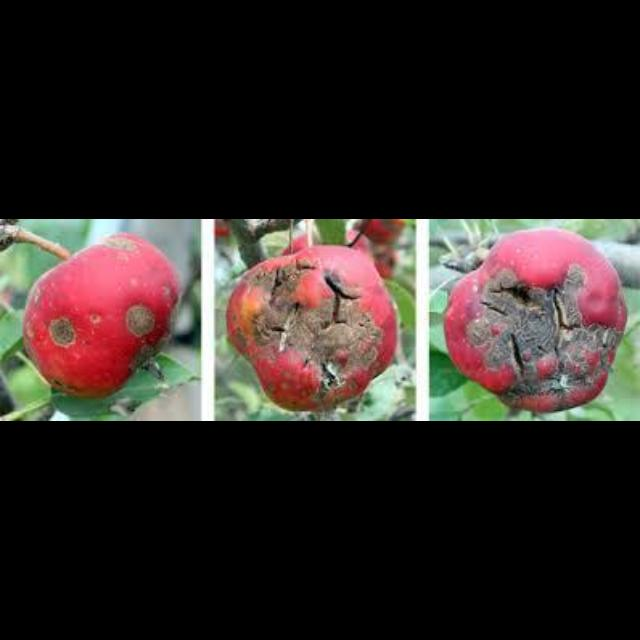apple: (442, 227, 626, 410), (227, 243, 397, 410), (23, 232, 180, 399)
pest: (461, 259, 618, 402), (243, 263, 383, 409), (45, 311, 79, 351), (125, 304, 156, 339)
